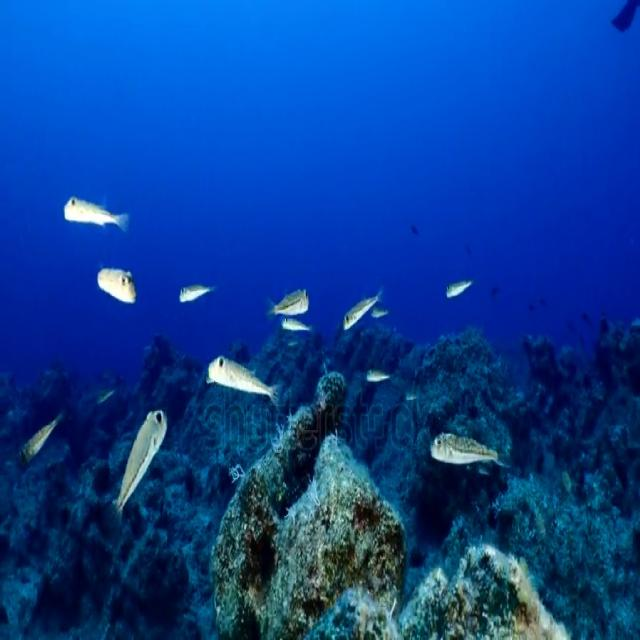Balon Baligi: (111, 394, 171, 515), (202, 350, 280, 414), (428, 419, 512, 476), (61, 189, 136, 235), (336, 283, 386, 338), (90, 259, 142, 311), (174, 272, 221, 312), (264, 282, 311, 321), (438, 266, 474, 310), (361, 360, 393, 390)
